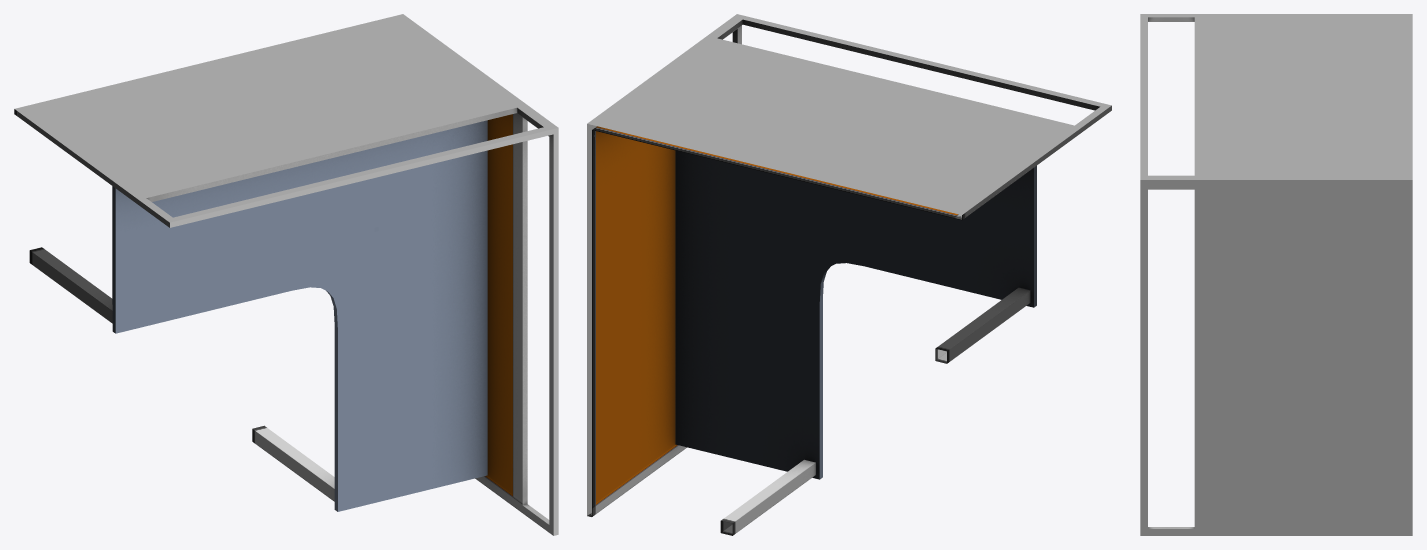
The model's file is cubicle_corner.obj.
The picture shows the model from 3 angles, left to right: view 1: azimuth 30°, elevation 25°; view 2: azimuth 150°, elevation 25°; view 3: azimuth 270°, elevation 25°; orthographic projection. The views are drawn at different scales.
Parts seen in each view (by area): view 1: cubicle_corner; view 2: cubicle_corner; view 3: cubicle_corner.
Part boxes in pixels (left/top/right/bottom): cubicle_corner: left=14, top=14, right=558, bottom=535; cubicle_corner: left=587, top=14, right=1111, bottom=535; cubicle_corner: left=1140, top=14, right=1412, bottom=535.
Size of the model in its own units: 191 by 191 by 132.
